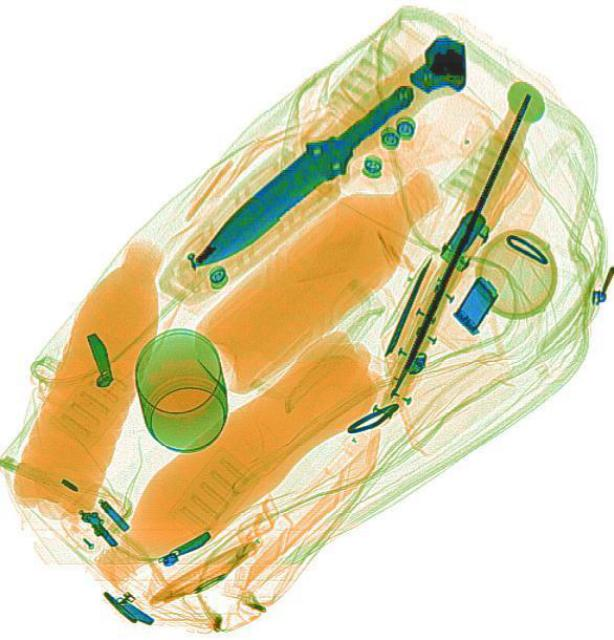Knife: (171, 68, 427, 282), (376, 89, 537, 404)
